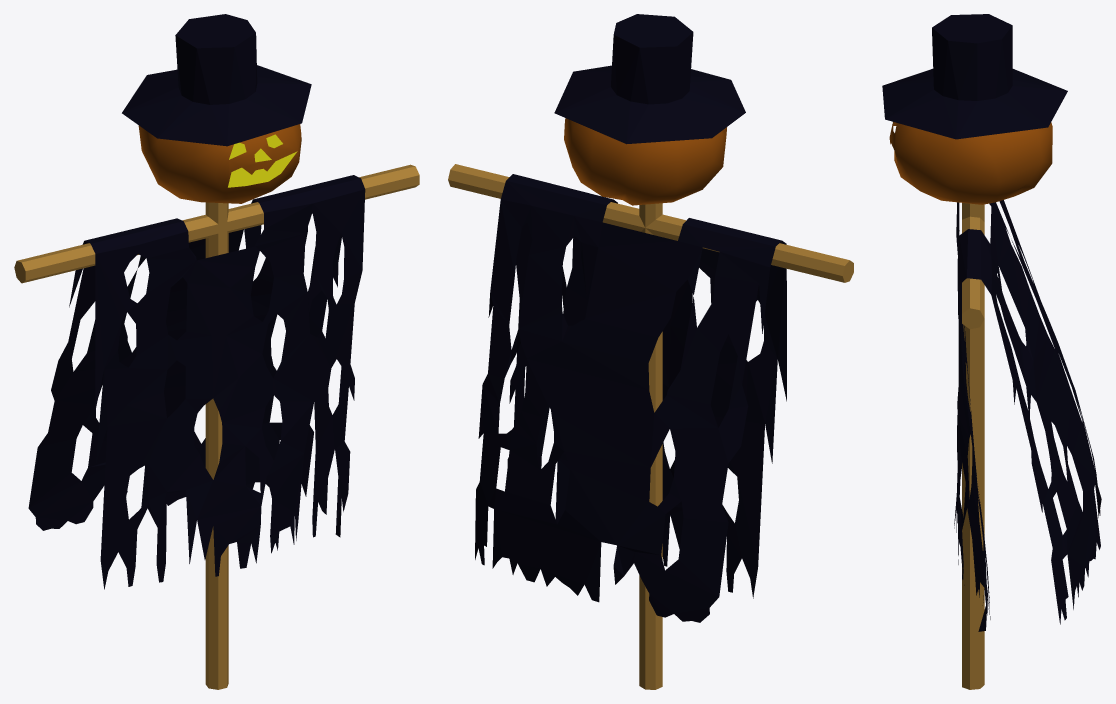
File: Puglik12222.fbx
3 renders of one model, left to right at view 1: azimuth 30°, elevation 25°; view 2: azimuth 150°, elevation 25°; view 3: azimuth 270°, elevation 25°, orthographic.
Parts seen in each view (by area): view 1: Cylinder.003, Cylinder.002, Grid, Cylinder, Cylinder.001, Plane; view 2: Cylinder.003, Cylinder.002, Grid, Cylinder.001, Cylinder; view 3: Cylinder.003, Cylinder.002, Grid, Cylinder, Cylinder.001.
Part boxes in pixels (x1,y1,x2,y2): Cylinder.003: (28, 175, 365, 589); Cylinder.002: (122, 14, 311, 146); Grid: (138, 124, 301, 203); Cylinder: (205, 202, 228, 689); Cylinder.001: (14, 164, 419, 283); Plane: (228, 134, 297, 187); Cylinder.003: (475, 174, 786, 622); Cylinder.002: (554, 14, 745, 144); Grid: (564, 118, 726, 205); Cylinder.001: (448, 164, 853, 282); Cylinder: (639, 203, 662, 689); Cylinder.003: (954, 200, 1101, 631); Cylinder.002: (882, 14, 1067, 139); Grid: (889, 122, 1052, 204); Cylinder: (962, 203, 984, 689); Cylinder.001: (962, 216, 984, 329).
Size of the model in its own units: 573 by 910 by 275.
